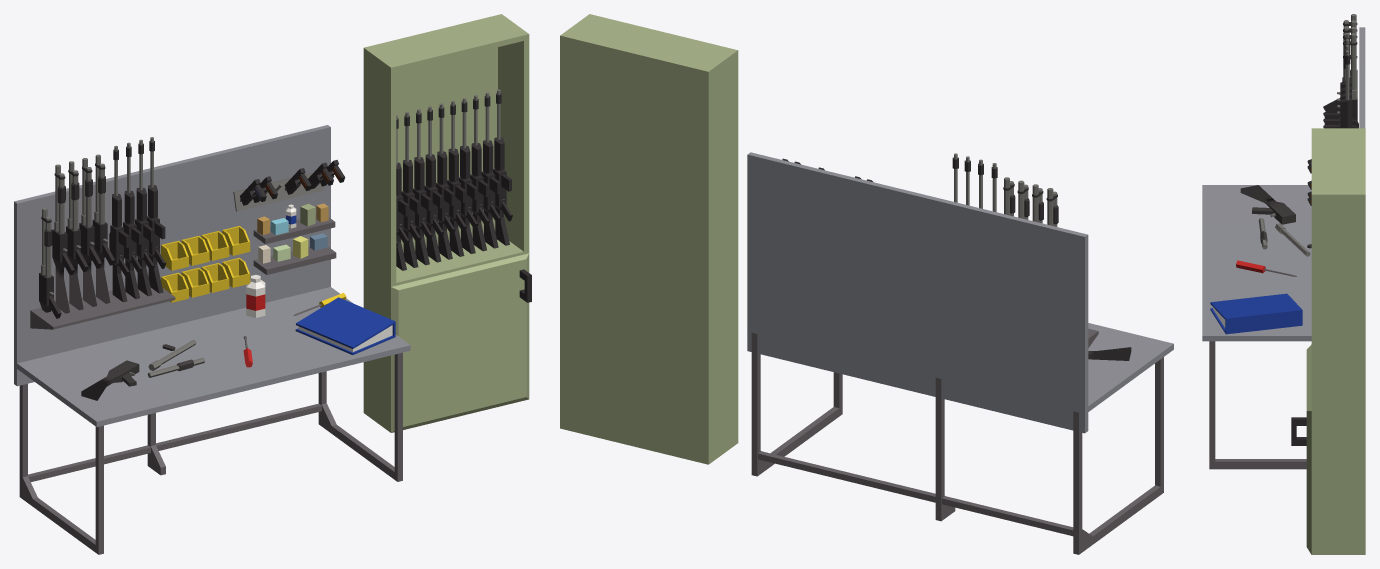
Rendered from g_o_Armory.fbx.
3 views of the same model, side by side, from view 1: azimuth 30°, elevation 25°; view 2: azimuth 150°, elevation 25°; view 3: azimuth 270°, elevation 25° (orthographic). The views are drawn at different scales.
Visible parts, largest first — view 1: armory2, GunGabinGuns, fix_shotgun; view 2: armory2; view 3: armory2, fix_shotgun.
Part boxes in pixels (x1,y1,x2,y2): armory2: [14, 14, 531, 554]; GunGabinGuns: [396, 89, 512, 270]; fix_shotgun: [81, 340, 204, 400]; armory2: [560, 14, 1173, 554]; armory2: [1202, 14, 1365, 554]; fix_shotgun: [1240, 185, 1311, 256].
Size of the model in its own units: 2.79 by 2 by 0.8226.
